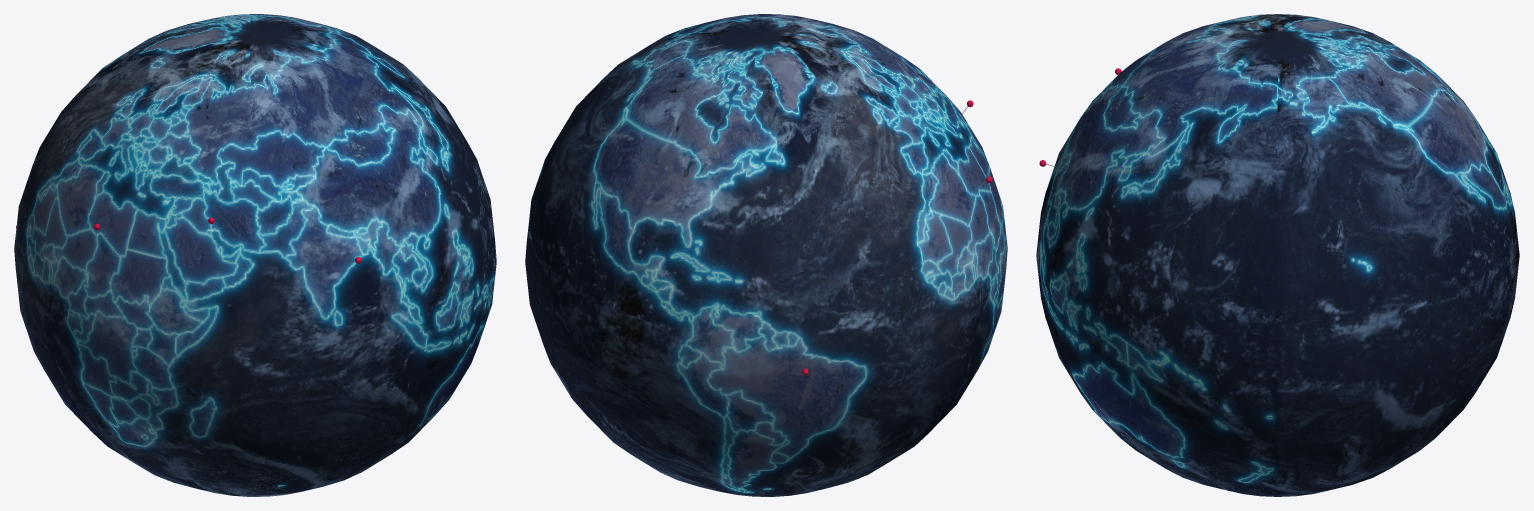
Rendered from Earth_0713.glb.
The picture shows the model from 3 angles, left to right: view 1: azimuth 30°, elevation 25°; view 2: azimuth 150°, elevation 25°; view 3: azimuth 270°, elevation 25°; orthographic projection.
Parts seen in each view (by area): view 1: Globe; view 2: Globe; view 3: Globe.
Part boxes in pixels (x1,y1,x2,y2): Globe: (14,14,496,496); Globe: (525,14,1007,496); Globe: (1036,14,1519,496).
Size of the model in its own units: 2 by 2 by 2.
2 materials, 2 textured.
